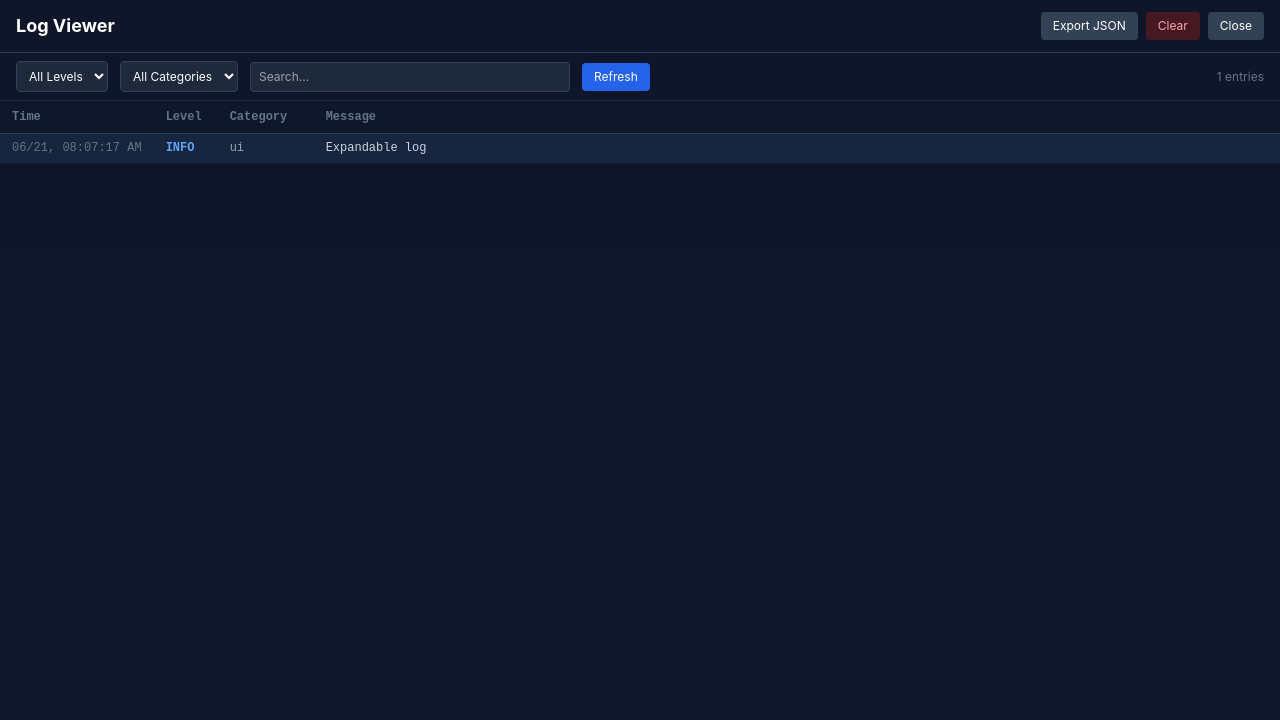
Test: LogViewer › ログエントリをクリックすると展開される
Expected: the text "Expandable log" is shown, [326,141,426,155]
// Click the row to expand
Click the text "Expandable log". click: (640, 148)
box: [0,134,1279,162]
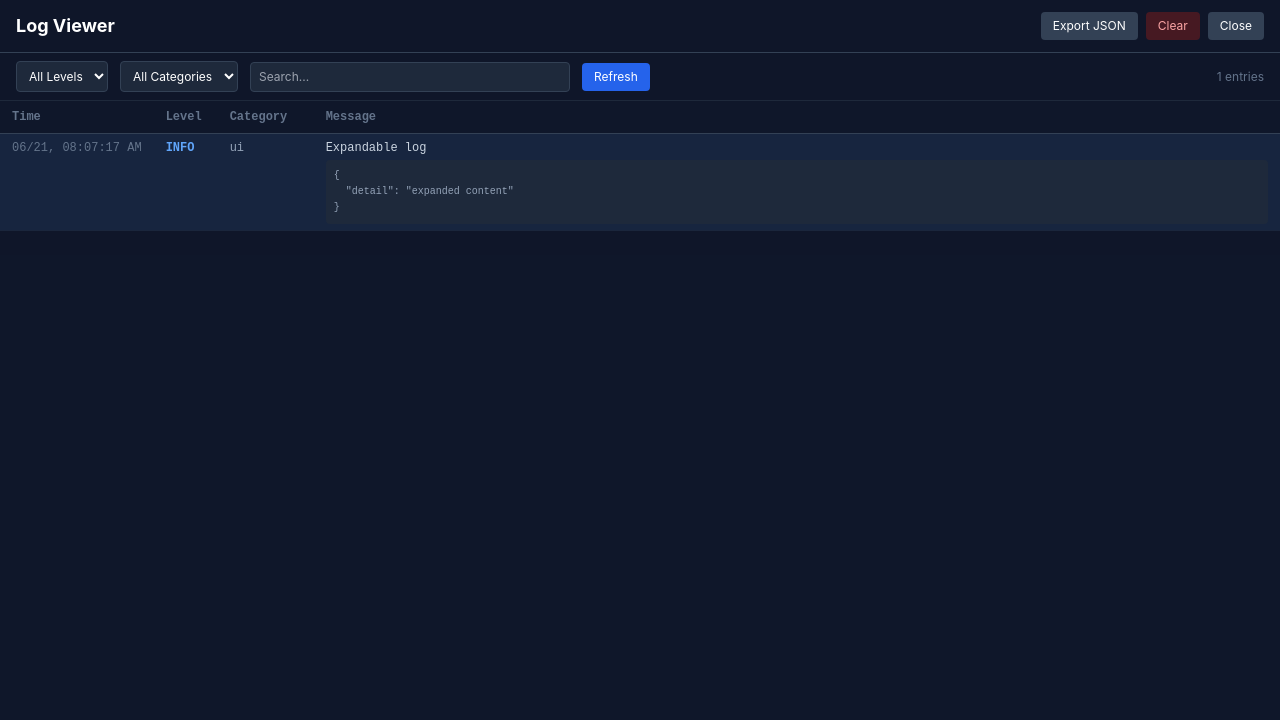
Expected: the text "{ \"detail\": \"expanded content\" }" is shown, [326,160,1268,224]
// Click again to collapse
Click the text "Expandable log". click: (640, 182)
box: [0,134,1279,230]
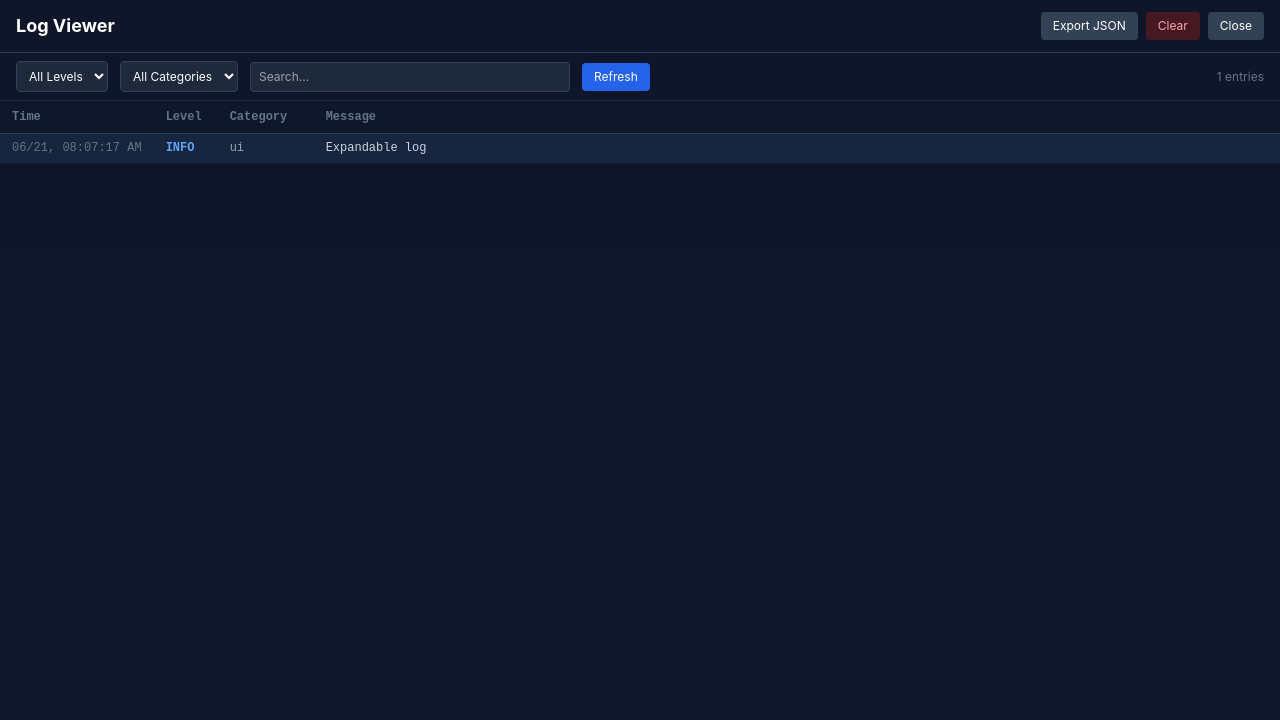
Expected: the text "\"detail\": \"expanded content\"" is gone
